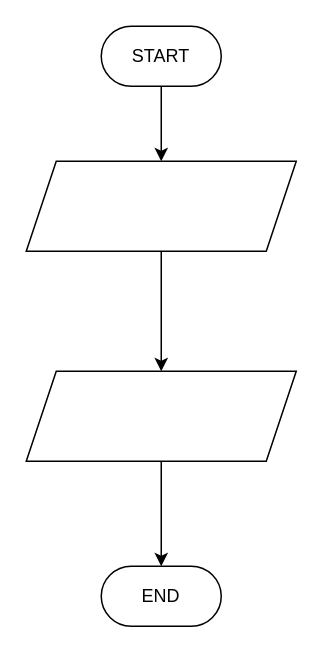
Some shapes in this 323 by 653 pixel diagram are drawn without their labels. The centre of each missing label's shape, as x and y in pixels:
"Result: #เอาต์พุต D B C A": pixel 160 415
รับข้อมูล "#เช่น A B C D": pixel 160 205
